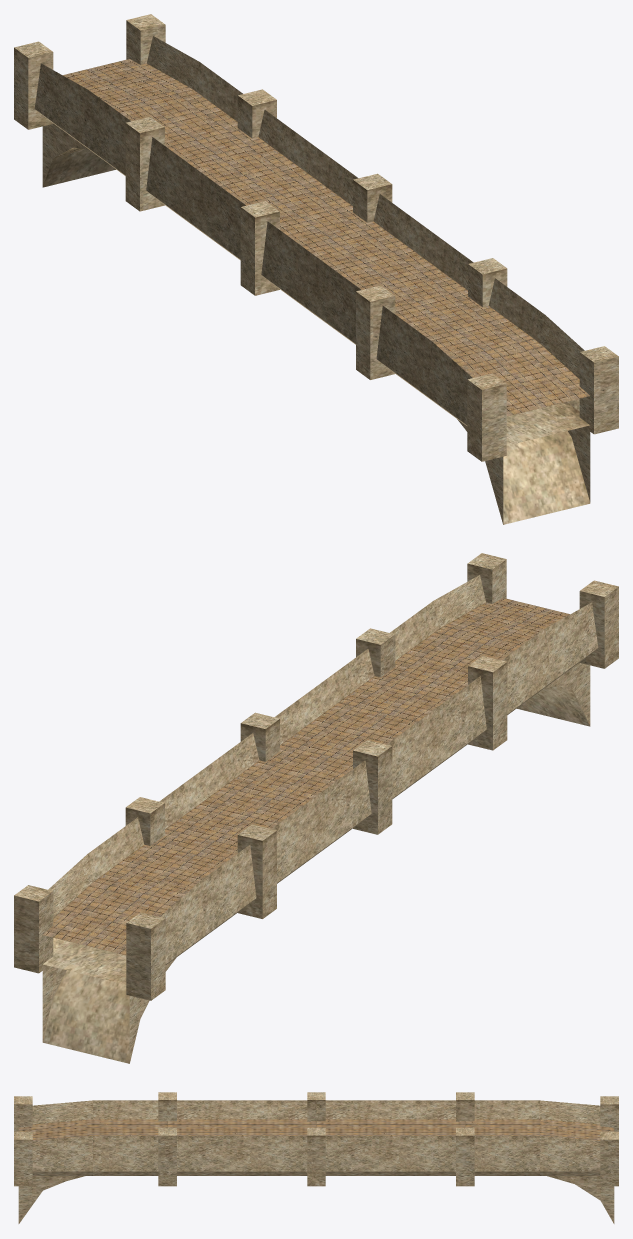
File: thm_tato_imprv_bridge_sml_s03_l2.fbx
3 renders of one model, top to bottom at view 1: azimuth 30°, elevation 25°; view 2: azimuth 150°, elevation 25°; view 3: azimuth 270°, elevation 25°, orthographic. The views are drawn at different scales.
Parts seen in each view (by area): view 1: mesh_node; view 2: mesh_node; view 3: mesh_node.
Part boxes in pixels (x1,y1,x2,y2): mesh_node: [14, 14, 618, 524]; mesh_node: [14, 553, 618, 1063]; mesh_node: [14, 1092, 618, 1223].
Size of the model in its own units: 5.5 by 5.75 by 32.5.
